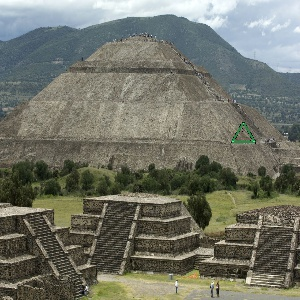triangle: (227, 118, 258, 149)
